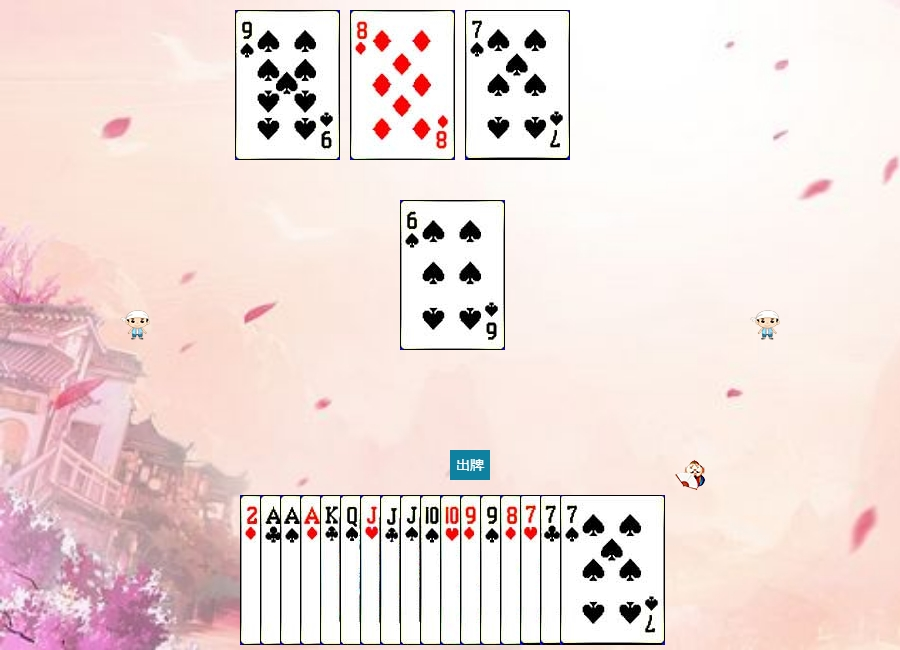10~3: (440, 495, 545, 645)
10~4: (420, 495, 525, 645)
11~2: (380, 495, 485, 645)
11~3: (360, 495, 465, 645)
11~4: (400, 495, 505, 645)
12~4: (340, 495, 445, 645)
13~2: (320, 495, 425, 645)
14~1: (300, 495, 405, 645)
14~2: (260, 495, 365, 645)
14~4: (280, 495, 385, 645)
15~1: (240, 495, 345, 645)
6~4: (400, 200, 505, 350)
7~2: (540, 495, 645, 645)
7~3: (520, 495, 625, 645)
7~4: (465, 10, 570, 160), (560, 495, 665, 645)
8~1: (350, 10, 455, 160), (500, 495, 605, 645)
9~1: (460, 495, 565, 645)
9~4: (235, 10, 340, 160), (480, 495, 585, 645)
